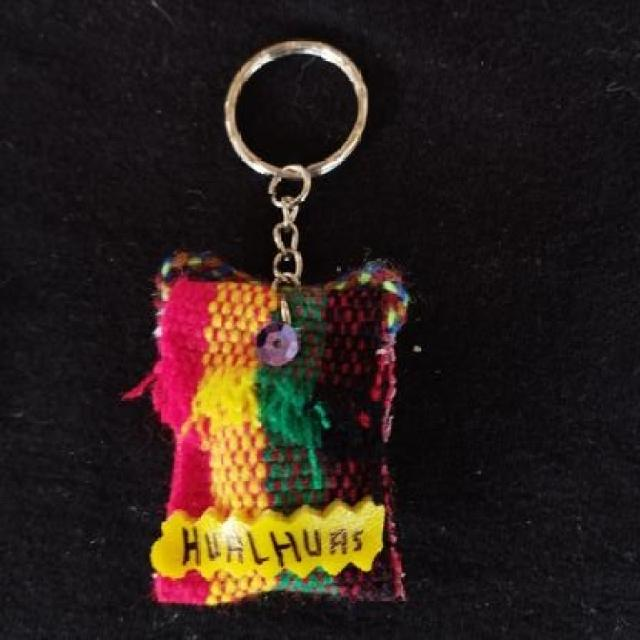Llavero: (121, 247, 413, 608)
